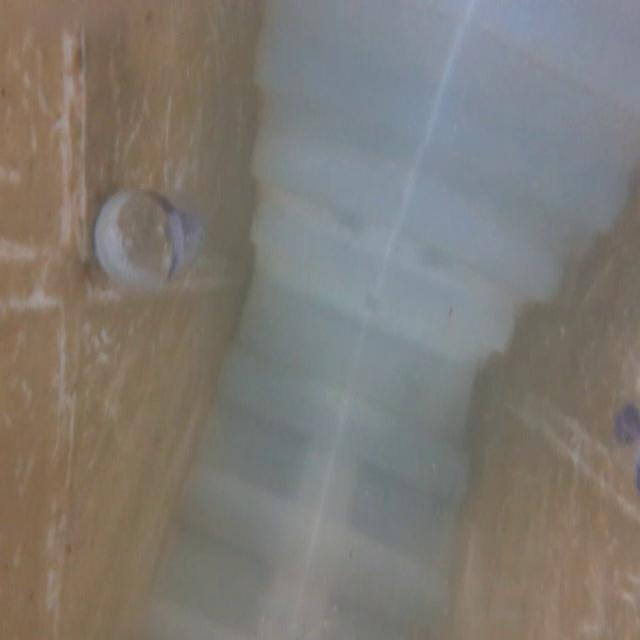plastic bottle: (76, 166, 230, 315)
